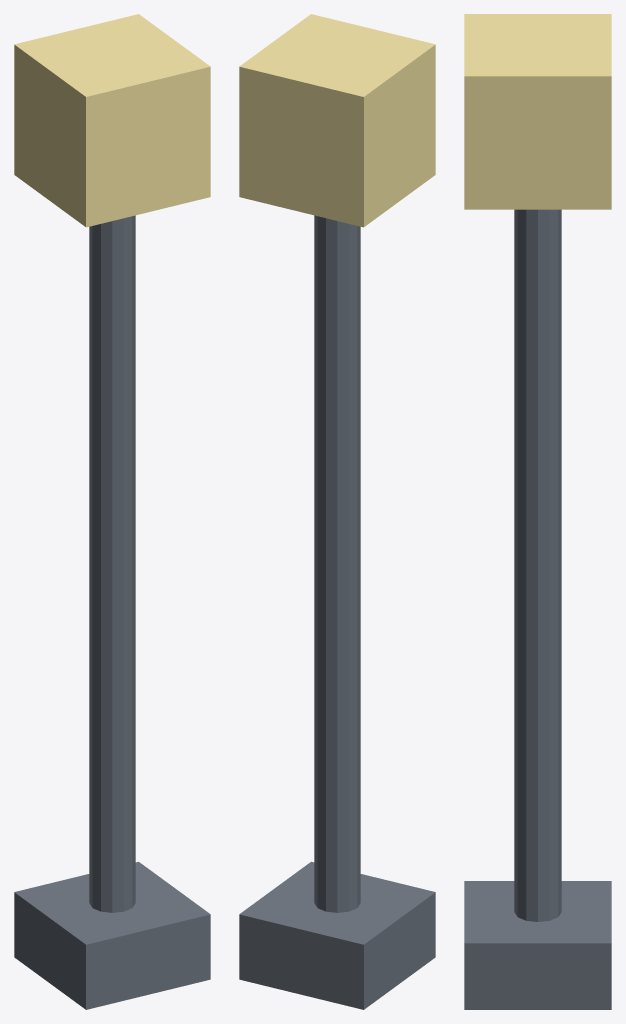
The model's file is prop_lamp_post.glb.
3 views of the same model, side by side, from view 1: azimuth 30°, elevation 25°; view 2: azimuth 150°, elevation 25°; view 3: azimuth 270°, elevation 25° (orthographic). The views are drawn at different scales.
Visible parts, largest first — view 1: prop_lamp_post-col; view 2: prop_lamp_post-col; view 3: prop_lamp_post-col.
Part boxes in pixels (left/top/right/bottom): prop_lamp_post-col: left=14, top=14, right=210, bottom=1009; prop_lamp_post-col: left=239, top=14, right=435, bottom=1009; prop_lamp_post-col: left=464, top=14, right=611, bottom=1009.
Size of the model in its own units: 0.5 by 3.5 by 0.5.
